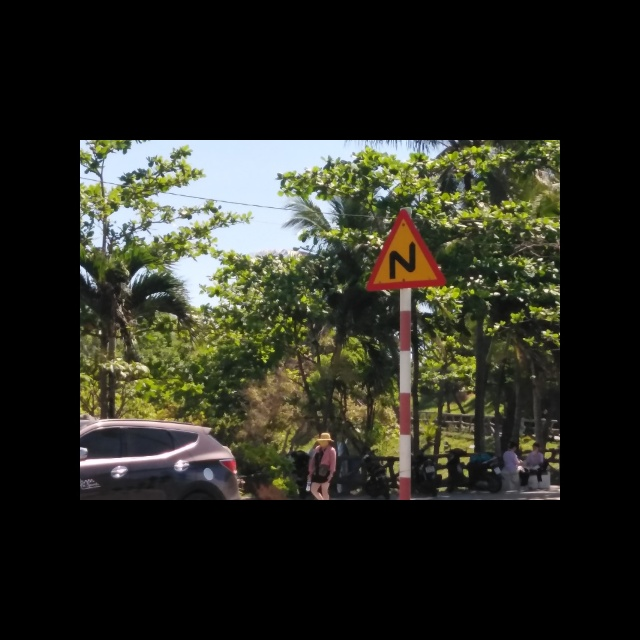Ngoặt nguy hiểm liên tiếp bên phải: (366, 207, 447, 293)
